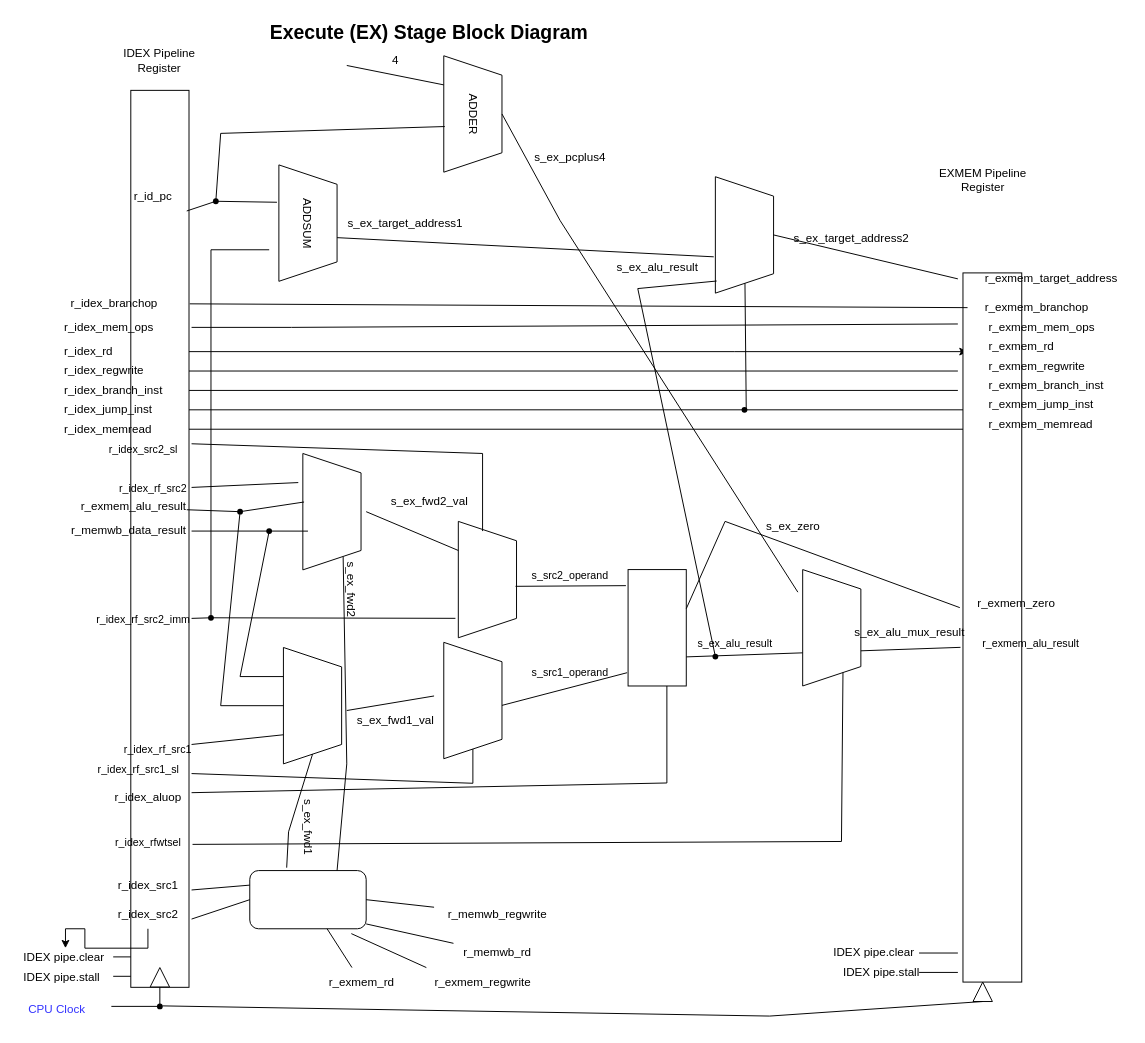
This 1145x1043 diagram has some shape labels left out. Here are the shapes that lost their labels. From the top down, the centre of each, then its label:
(656,627): ALU
(307,899): FWDCTRL
